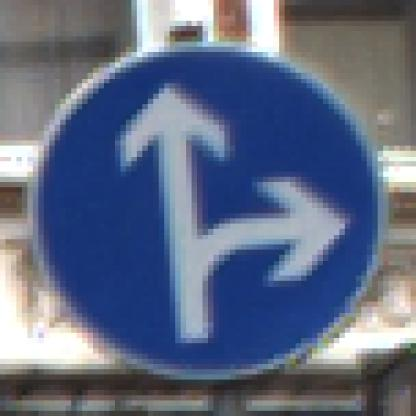Straight or Right: (34, 43, 384, 381)
